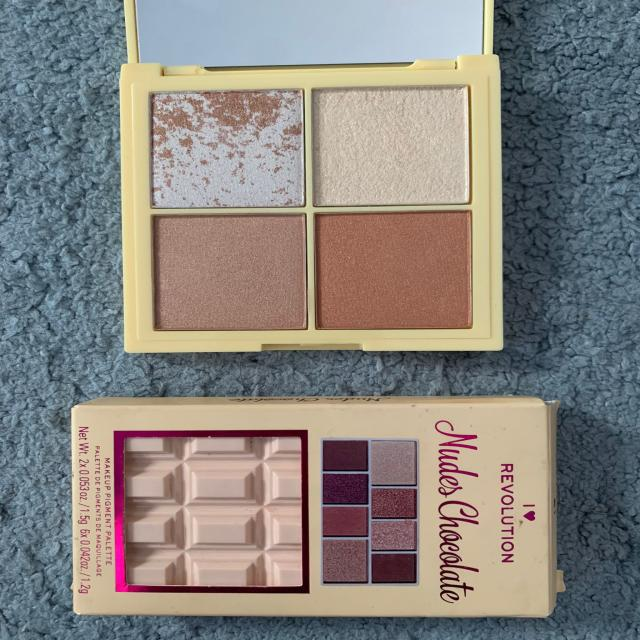bronzer: (144, 210, 317, 336), (313, 210, 481, 331)
eye shade: (59, 391, 571, 624)
highlighter: (309, 85, 475, 210), (138, 86, 309, 207)
